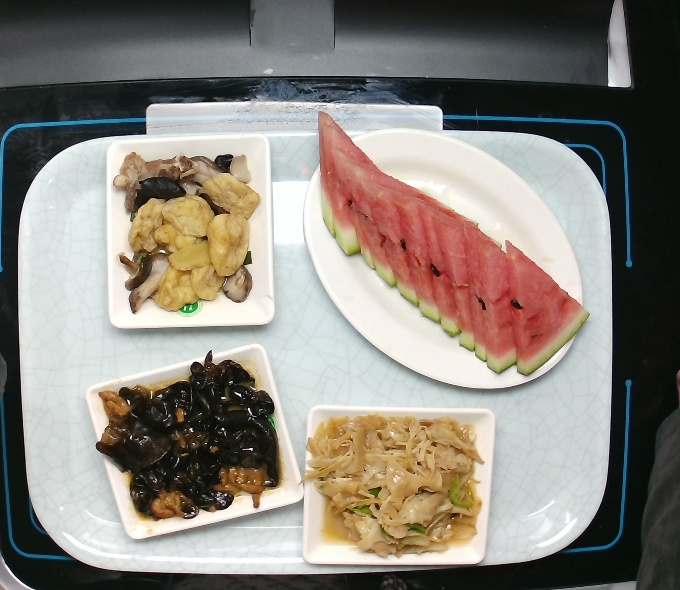wcq-LuSun: (297, 413, 489, 564)
wcq-MuErChaoRou: (89, 345, 278, 526)
wcq-XiGua: (300, 107, 592, 382)
wcq-YouPaoPaiGu: (106, 139, 268, 320)
